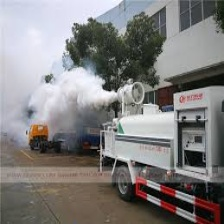smoke: (13, 65, 117, 135)
